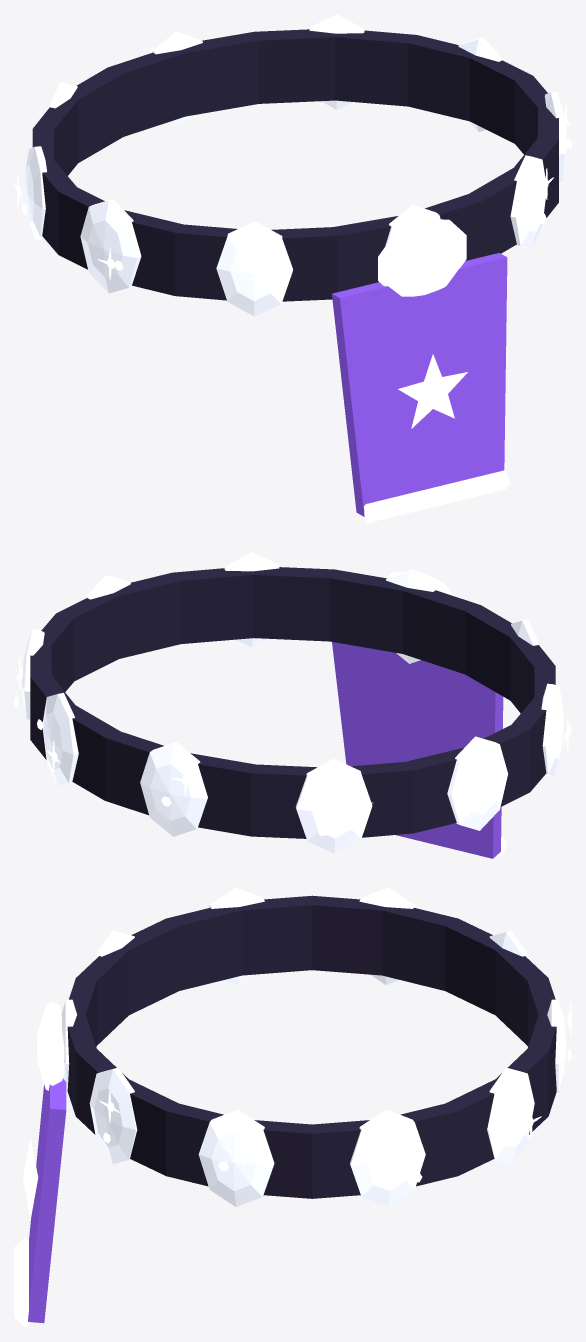
The model's file is star_giant_belt.glb.
3 views of the same model, one above another, from view 1: azimuth 30°, elevation 25°; view 2: azimuth 150°, elevation 25°; view 3: azimuth 270°, elevation 25° (orthographic). The views are drawn at different scales.
Parts seen in each view (by area): view 1: star_giant_belt; view 2: star_giant_belt; view 3: star_giant_belt.
Boxes of the visible parts, x1,y1,x2,y2 form: star_giant_belt: (14, 14, 571, 523); star_giant_belt: (14, 552, 571, 858); star_giant_belt: (14, 887, 571, 1327).
Bounding box in the file's own units: 1.03 × 0.5851 × 1.01.
